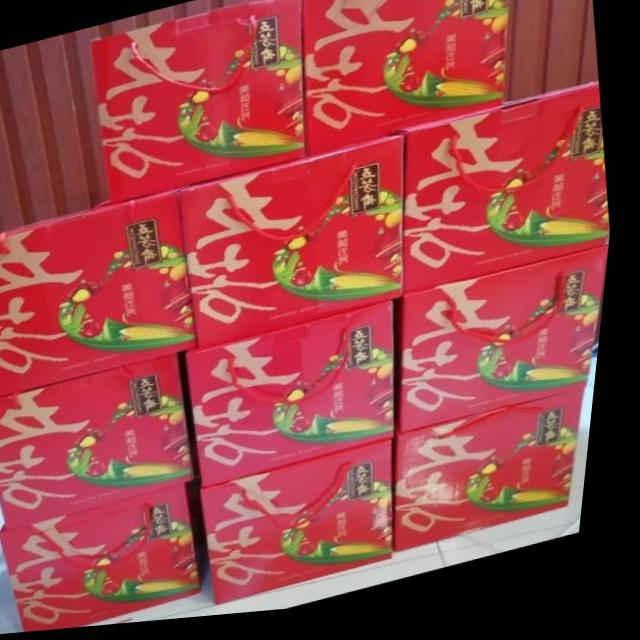box: (183, 142, 409, 353), (92, 0, 312, 207), (409, 92, 616, 305), (0, 187, 202, 397), (193, 308, 404, 493), (408, 257, 615, 440), (0, 355, 209, 532), (303, 0, 511, 162), (9, 482, 221, 634), (213, 446, 405, 612), (404, 399, 597, 560)
